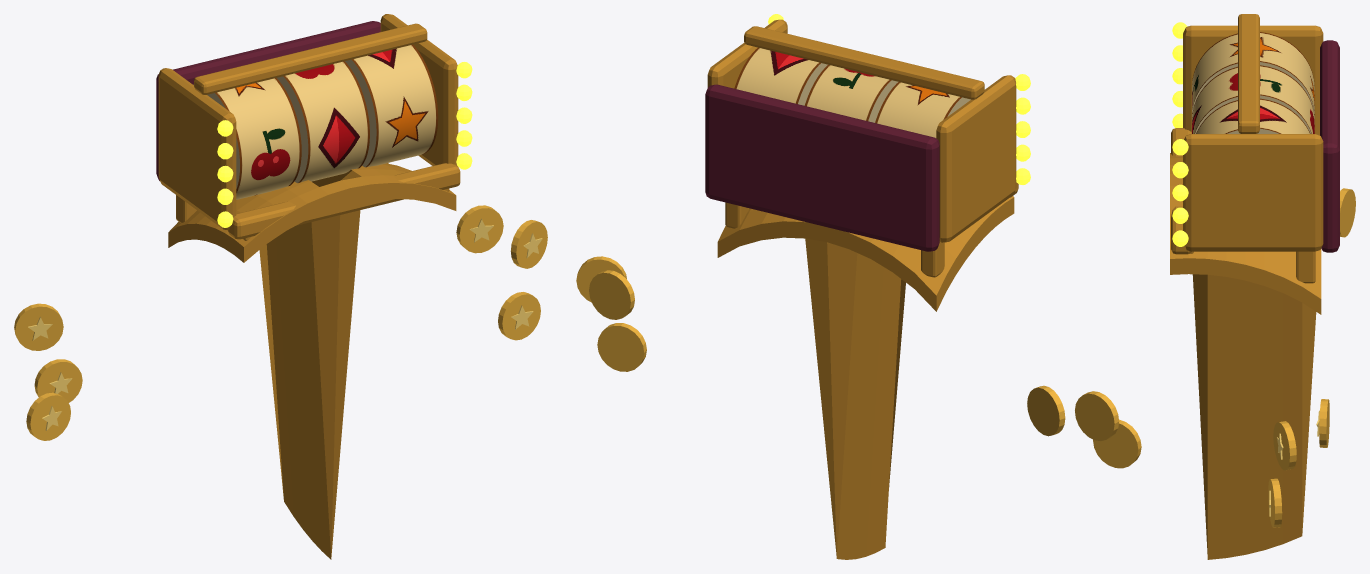
File: jackpot-arcade-v1-accessories.fbx
3 views of the same model, side by side, from view 1: azimuth 30°, elevation 25°; view 2: azimuth 150°, elevation 25°; view 3: azimuth 270°, elevation 25° (orthographic). The views are drawn at different scales.
Visible parts, largest first — view 1: ReelSaddle, ReelSide_-0.585, SymbolReel_2, SymbolReel_1, SymbolReel_0, UpperRail, ReelSide_0.585, FrontSill, RearHousing, GoldToken_5, GoldToken_4, GoldToken_1 (+3 smaller); view 2: ReelSaddle, RearHousing, ReelSide_-0.585, UpperRail, SymbolReel_1, SymbolReel_2, SymbolReel_0, GoldToken_0, GoldToken_4, GoldToken_3, GoldToken_5, GoldToken_1 (+2 smaller); view 3: ReelSaddle, ReelSide_0.585, RearHousing, ReelSide_-0.585, SymbolReel_0, SymbolReel_1, UpperRail, SymbolReel_2, GoldToken_2, GoldToken_5, SaddleSupport_0.5_0.53, GoldToken_0 (+2 smaller).
Boxes of the visible parts, box(x1,y1,x2,y2) form: ReelSaddle: box(168, 163, 456, 559); ReelSide_-0.585: box(158, 68, 236, 230); SymbolReel_2: box(345, 44, 438, 167); SymbolReel_1: box(277, 61, 369, 183); SymbolReel_0: box(193, 78, 301, 199); UpperRail: box(194, 23, 427, 94); ReelSide_0.585: box(380, 14, 458, 166); FrontSill: box(228, 163, 460, 239); RearHousing: box(156, 21, 380, 180); GoldToken_5: box(14, 303, 63, 350); GoldToken_4: box(456, 205, 503, 253); GoldToken_1: box(26, 392, 70, 440); ReelSaddle: box(717, 196, 1014, 559); RearHousing: box(705, 84, 939, 251); ReelSide_-0.585: box(936, 75, 1016, 242); UpperRail: box(744, 26, 984, 99); SymbolReel_1: box(804, 64, 898, 122); SymbolReel_2: box(734, 47, 827, 105); SymbolReel_0: box(875, 82, 970, 137); GoldToken_0: box(597, 323, 646, 371); GoldToken_4: box(589, 270, 634, 319); GoldToken_3: box(1075, 391, 1119, 441); GoldToken_5: box(1027, 385, 1065, 436); GoldToken_1: box(1093, 419, 1141, 468); ReelSaddle: box(1170, 153, 1321, 559); ReelSide_0.585: box(1183, 134, 1323, 251); RearHousing: box(1320, 40, 1339, 252); ReelSide_-0.585: box(1183, 25, 1323, 135); SymbolReel_0: box(1192, 32, 1314, 118); SymbolReel_1: box(1192, 65, 1314, 133); UpperRail: box(1238, 14, 1259, 133); SymbolReel_2: box(1196, 98, 1310, 133); GoldToken_2: box(1273, 421, 1296, 470); GoldToken_5: box(1340, 188, 1355, 237); SaddleSupport_0.5_0.53: box(1296, 251, 1315, 283); GoldToken_0: box(1268, 478, 1282, 527).
Size of the model in its own units: 1686 by 1488 by 509.
9 materials, 3 textured.
